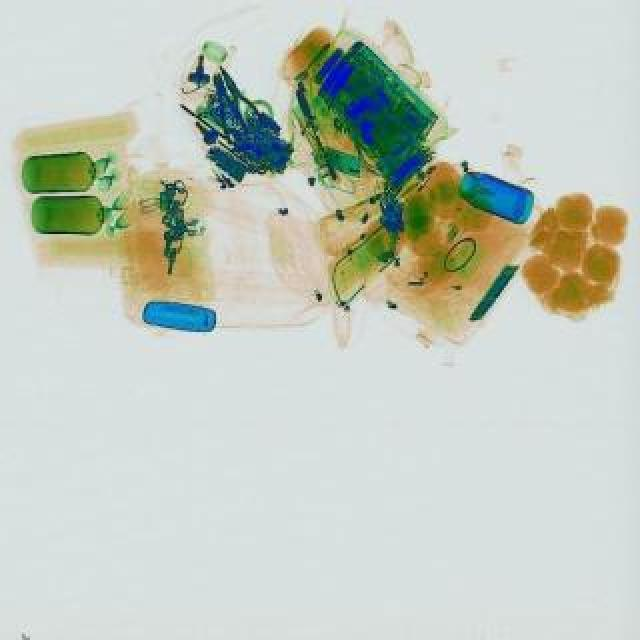wrench: (208, 60, 266, 132), (204, 74, 254, 148)
